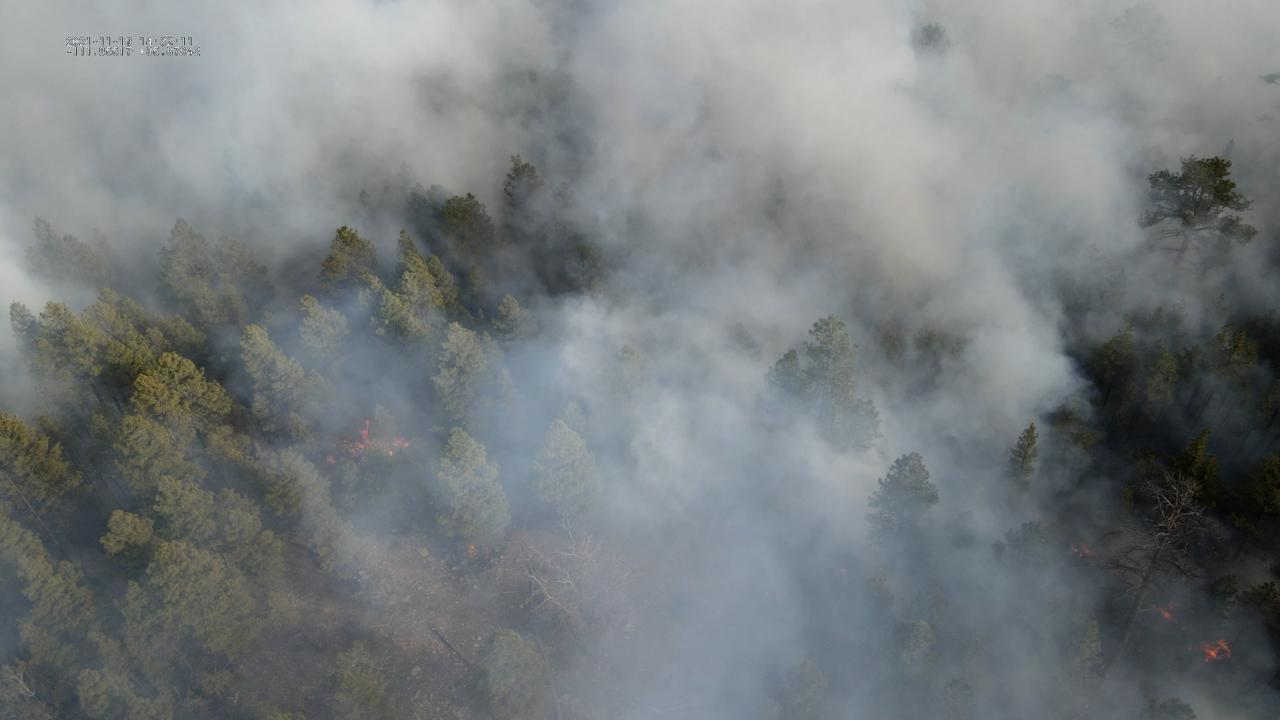fire: (342, 417, 411, 463), (1196, 638, 1232, 667), (1155, 599, 1182, 624), (1069, 543, 1094, 558), (323, 453, 338, 465), (468, 543, 478, 555)
smoke: (0, 0, 1280, 720)
